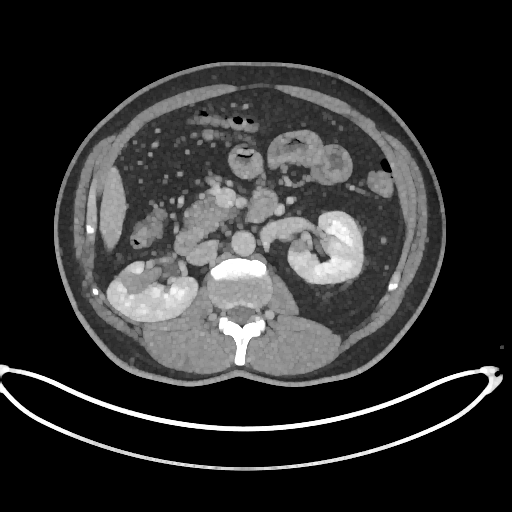Lesion: (115, 267, 163, 294)
